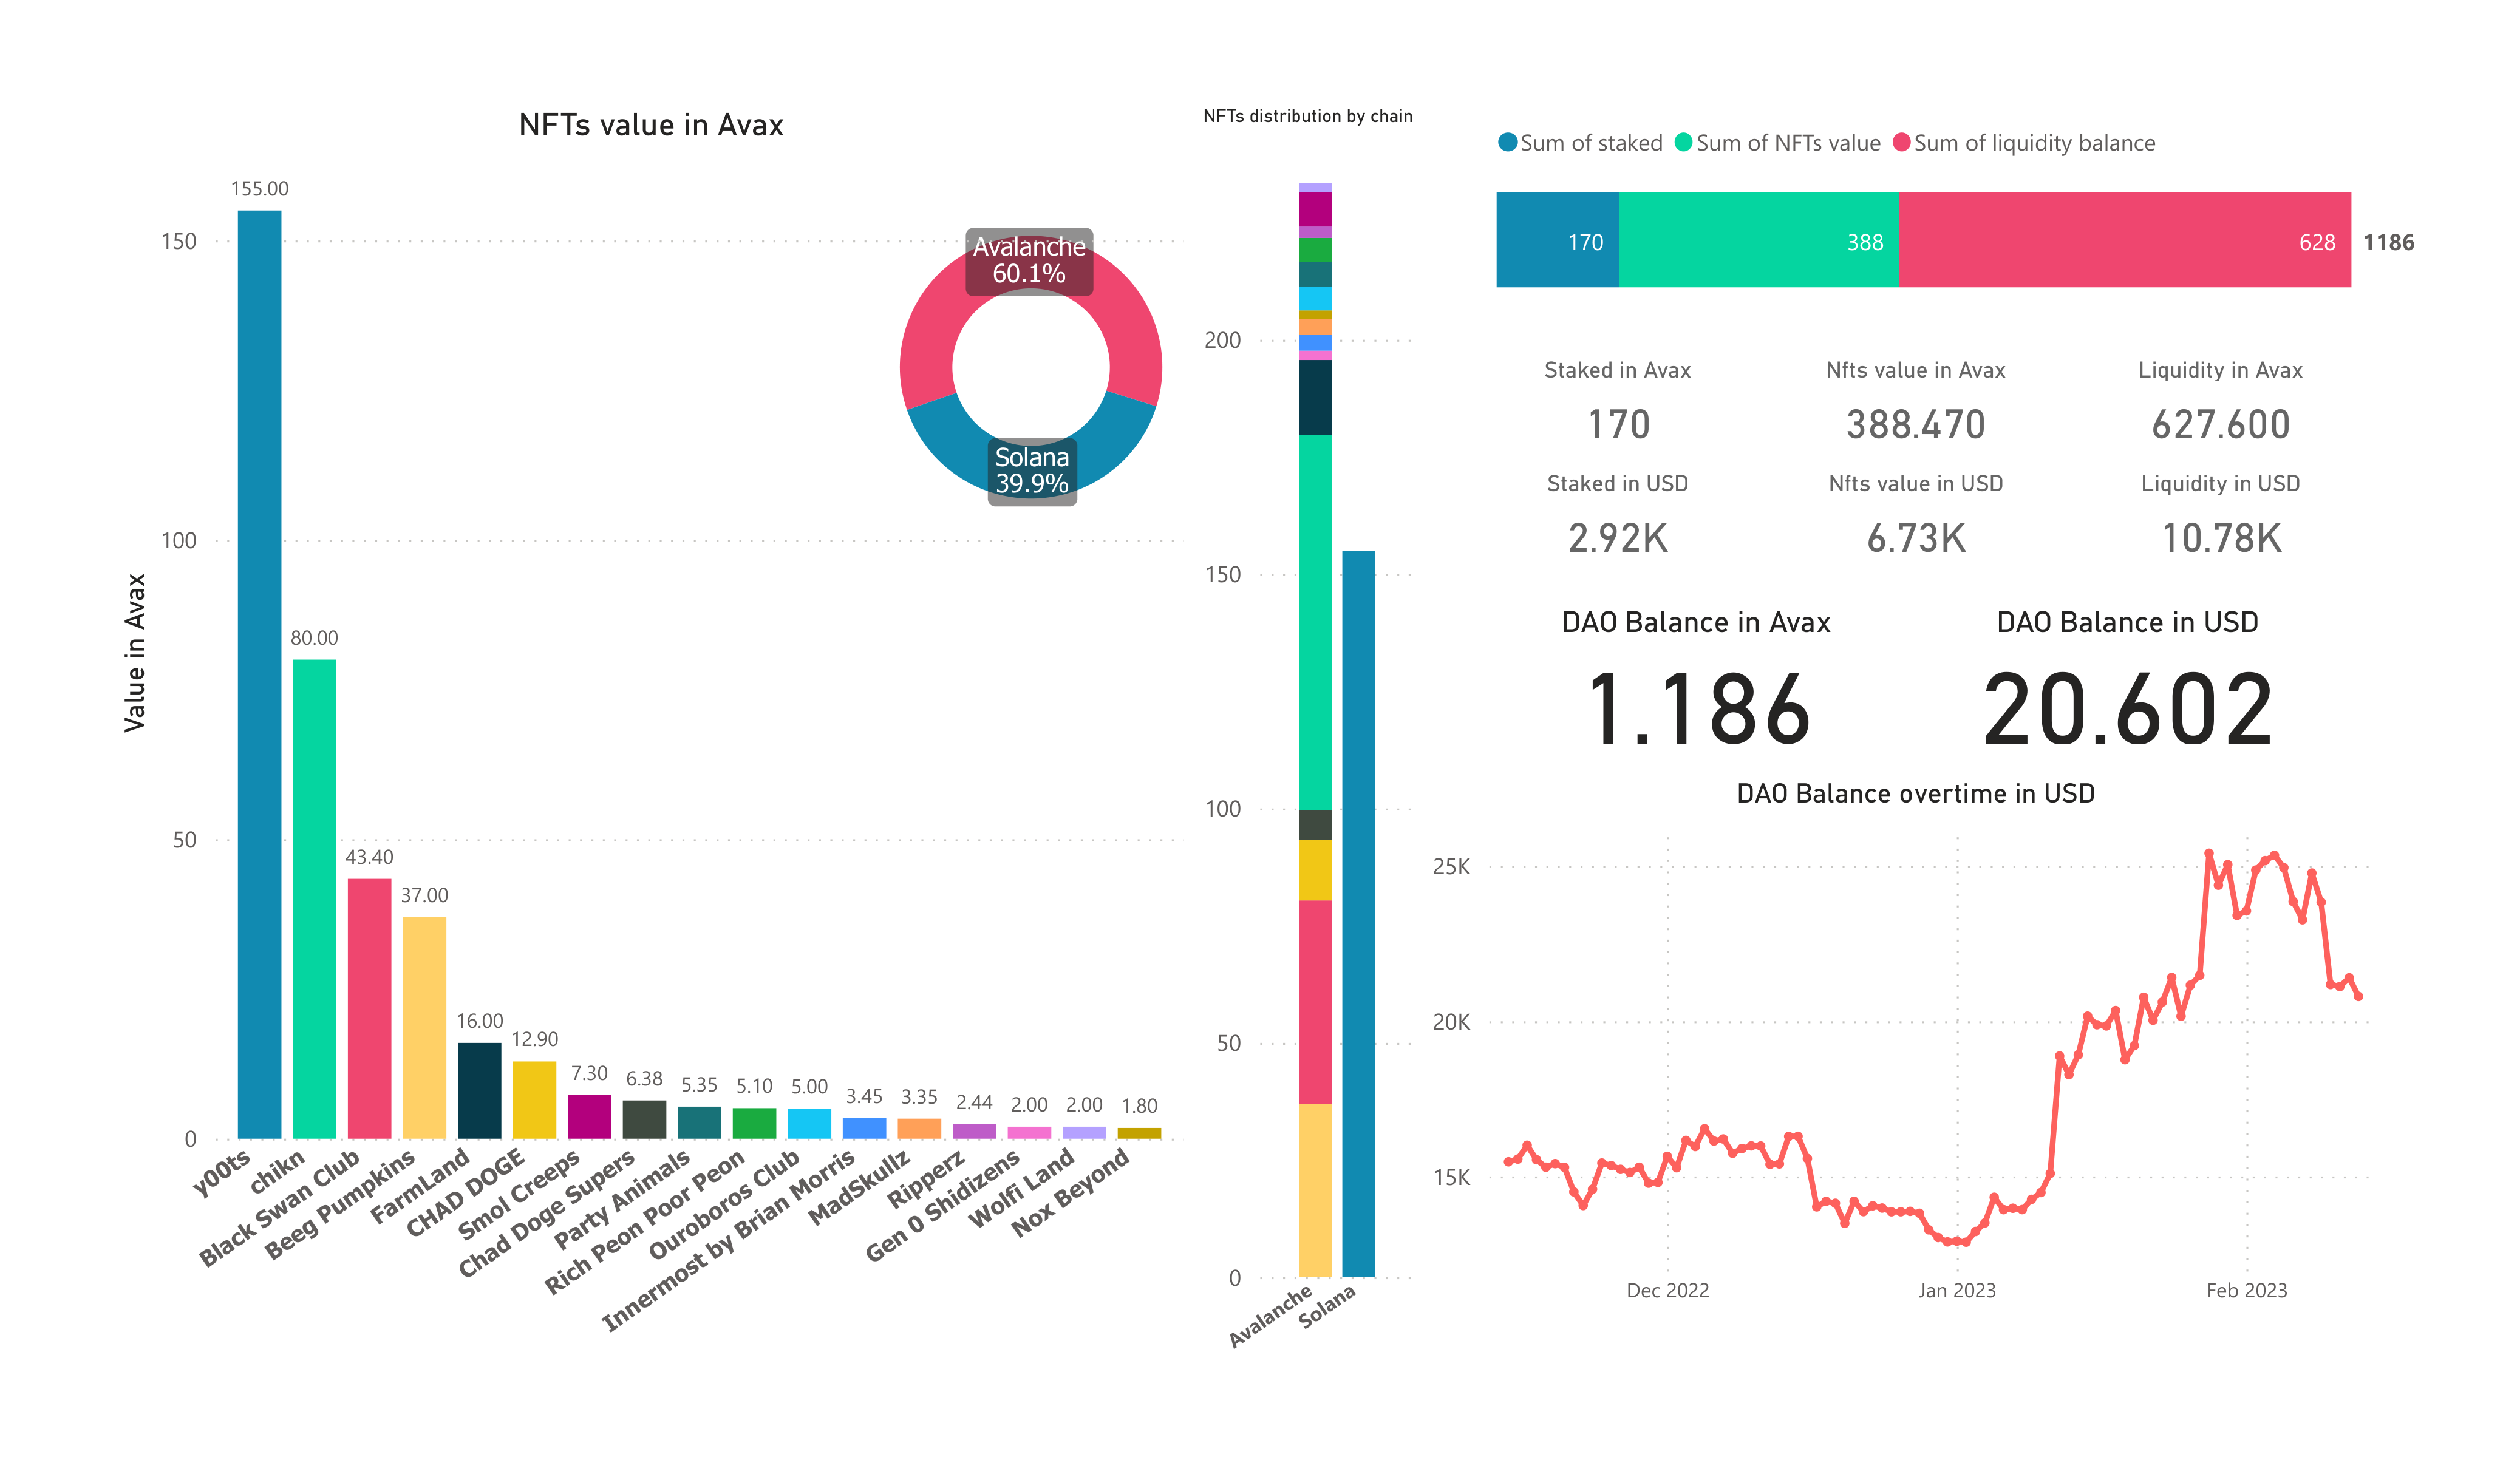

The dashboard page shown, as its layout file describes it:
{"tool":"powerbi","page":{"name":"Page 1","canvas":[1280,720],"ordinal":0},"visuals":[{"type":"donutChart","title":"Nfts by Chain","fields":{"Y":["Sum(nfts.Value)"],"Category":["nfts.Chain"]},"box":[399.1,62.7,240.9,213.6],"z":0},{"type":"columnChart","title":"NFTs value in Avax","fields":{"Category":["nfts.Name"],"Series":["nfts.Name"],"Y":["Sum(nfts.Value)"]},"box":[33.8,31.3,571.3,666.8],"z":1000},{"type":"columnChart","title":"NFTs distribution by chain","fields":{"Category":["nfts.Chain"],"Y":["Sum(nfts.Value)"],"Series":["nfts.Name"]},"box":[605.1,31.3,121.7,666.8],"z":2000},{"type":"lineChart","title":"DAO Balance overtime in USD","fields":{"Y":["Sum(avax_chart_balance.balance)"],"Category":["avax_chart_balance.timeStamp.Variation.Date Hierarchy.Year"]},"box":[725.9,386.2,519.7,288.2],"z":3000},{"type":"barChart","fields":{"Y":["Sum(stake.Staked in trader Joe)","Sum(nfts.Value)","Sum(balance.balance_avax)"]},"box":[759.7,31.3,493.5,105.6],"z":5000},{"type":"card","title":"DAO Balance in Avax","fields":{"Values":["Sum(total_balance.total_avax)"]},"box":[779.2,294.2,181.8,79.1],"z":6000},{"type":"card","title":"DAO Balance in USD","fields":{"Values":["Sum(total_balance.total_usd)"]},"box":[1006.5,294.1,181.7,79.4],"z":7000},{"type":"card","title":"Staked in USD","fields":{"Values":["Sum(stake.balance_usd)"]},"box":[765.6,223.8,125.9,57],"z":9000},{"type":"card","title":"Staked in Avax","fields":{"Values":["Sum(stake.staked)"]},"box":[765.6,163.8,125.9,57],"z":10000},{"type":"card","title":"Nfts value in USD","fields":{"Values":["Sum(nfts.value_usd)"]},"box":[922.9,223.8,125.9,57],"z":11000},{"type":"card","title":"Nfts value in Avax","fields":{"Values":["Sum(nfts.NFTs value)"]},"box":[922.9,163.8,125.9,57],"z":12000},{"type":"card","title":"Liquidity in USD","fields":{"Values":["Sum(balance.balance_usd)"]},"box":[1083.2,223.8,125.9,57],"z":13000},{"type":"card","title":"Liquidity in Avax","fields":{"Values":["Sum(balance.liquidity balance)"]},"box":[1083.2,163.8,125.9,57],"z":14000}]}

Visuals, with their boxes on the page's 1280x720 design canvas (x1, y1, x2, y2). These are canvas units, not pixel positions in the 2520x1457 screenshot, which may show the page scaled, cropped or inside an application window:
"Nfts by Chain" donutChart: rect(399, 63, 640, 276)
"NFTs value in Avax" columnChart: rect(34, 31, 605, 698)
"NFTs distribution by chain" columnChart: rect(605, 31, 727, 698)
"DAO Balance overtime in USD" lineChart: rect(726, 386, 1246, 674)
barChart - Sum(stake.Staked in trader Joe) x Sum(nfts.Value): rect(760, 31, 1253, 137)
"DAO Balance in Avax" card: rect(779, 294, 961, 373)
"DAO Balance in USD" card: rect(1006, 294, 1188, 374)
"Staked in USD" card: rect(766, 224, 892, 281)
"Staked in Avax" card: rect(766, 164, 892, 221)
"Nfts value in USD" card: rect(923, 224, 1049, 281)
"Nfts value in Avax" card: rect(923, 164, 1049, 221)
"Liquidity in USD" card: rect(1083, 224, 1209, 281)
"Liquidity in Avax" card: rect(1083, 164, 1209, 221)
